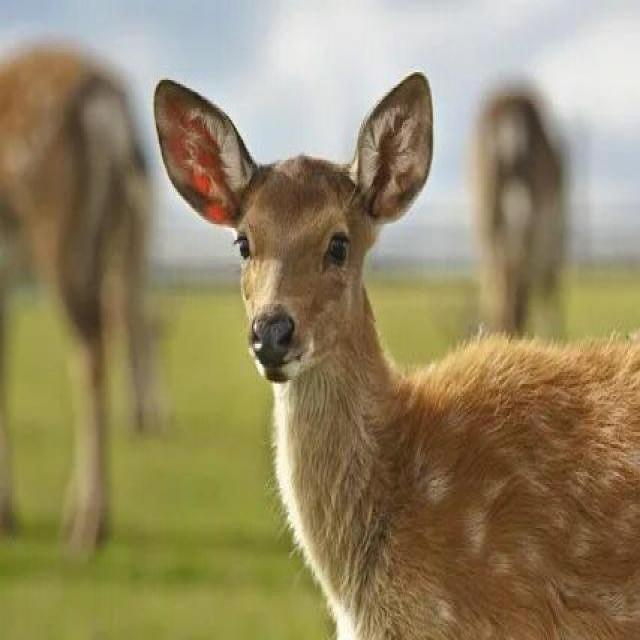deer: (136, 53, 635, 618)
